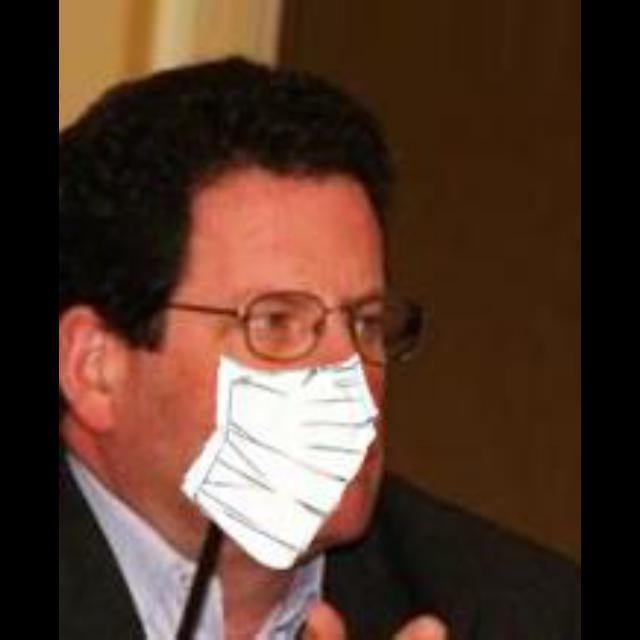suspicion: (93, 132, 445, 554)
